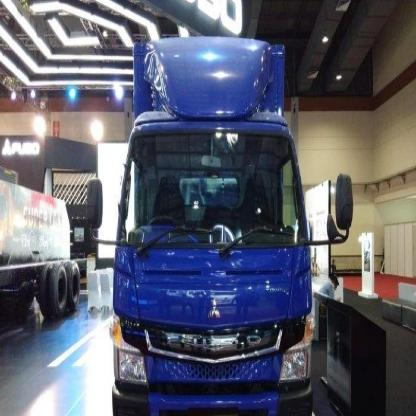truck: (87, 31, 353, 416)
